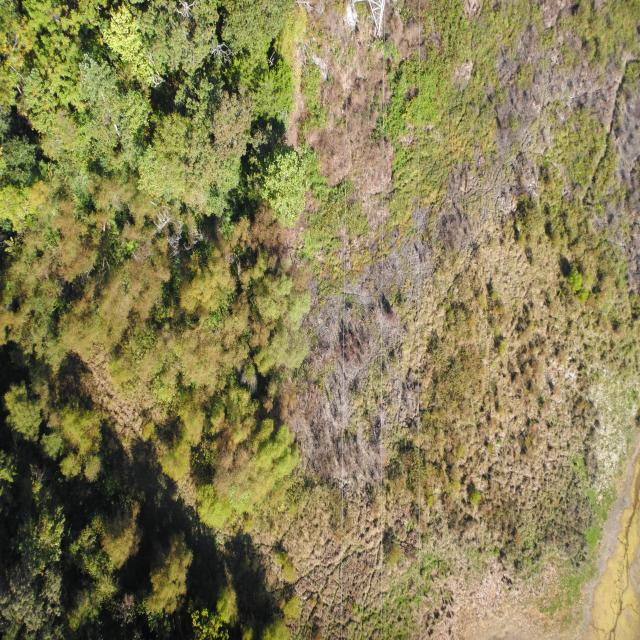Area of Interest: (4, 355, 295, 636), (1, 14, 303, 227)
